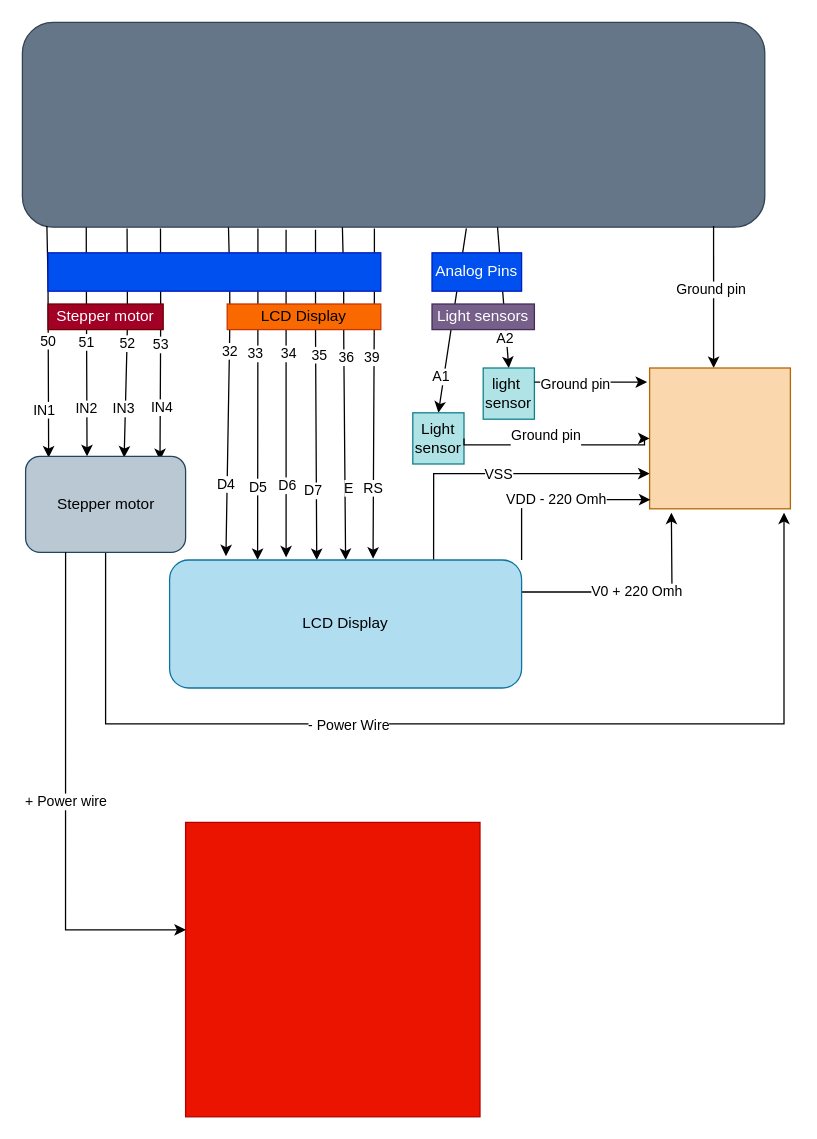
This 817x1139 diagram has some shape labels left out. The shapes that lost their labels are listed below. From the top down, each one's centre as x and y in pixels, then its label:
At (393,124): "Arduino Mega".
At (214,271): "Digital Pins".
At (719,438): "Ground Rail".
At (332,969): "5V power supply".
